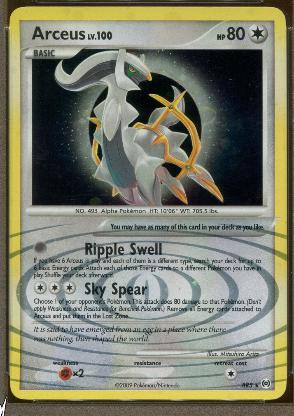Card: (7, 4, 289, 402)
